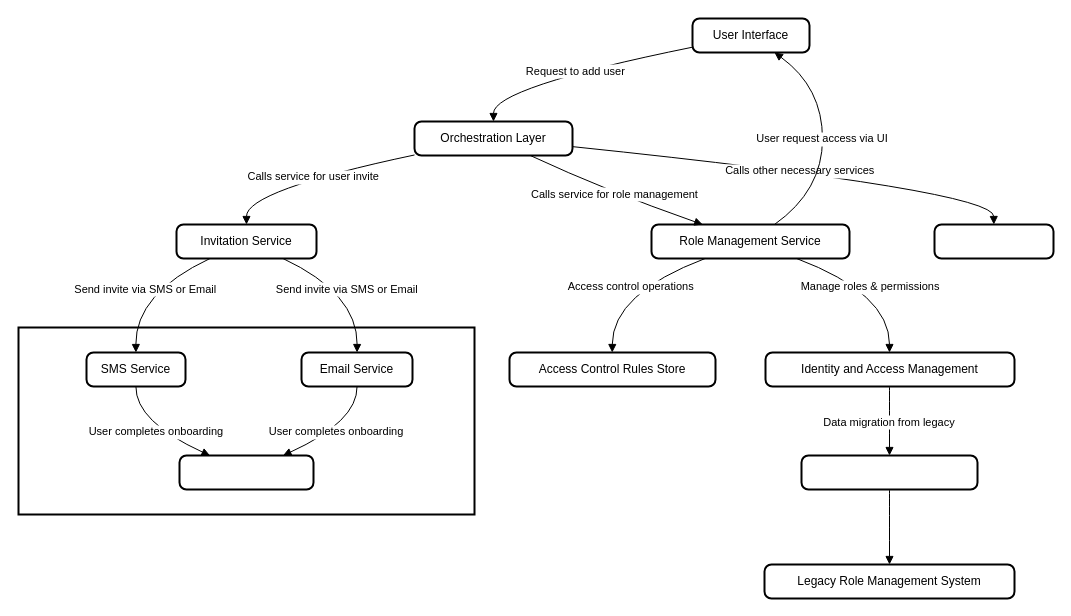
The diagram is 1071 pixels wide and 616 high, and some of its shapes have lost their labels. Here are the shapes that lost their labels. From the top down, the box of each, then its label:
(933, 223, 1054, 259): Other Services
(17, 326, 475, 515): Asynchronous Processing
(178, 454, 314, 490): User Onboarding
(800, 454, 978, 490): Data Migration Service
